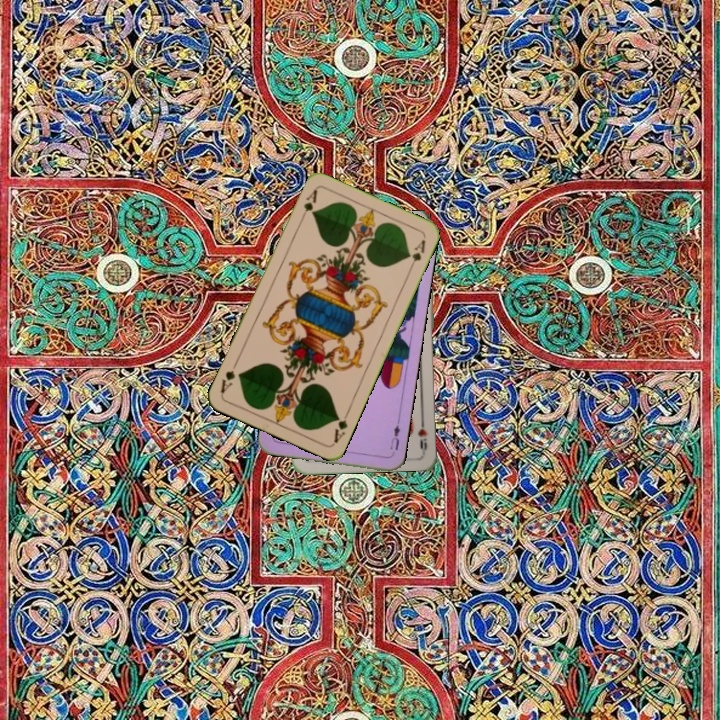EU: (386, 417, 402, 452)
GA: (296, 186, 320, 224), (329, 407, 352, 446)
H9: (414, 414, 431, 454)
